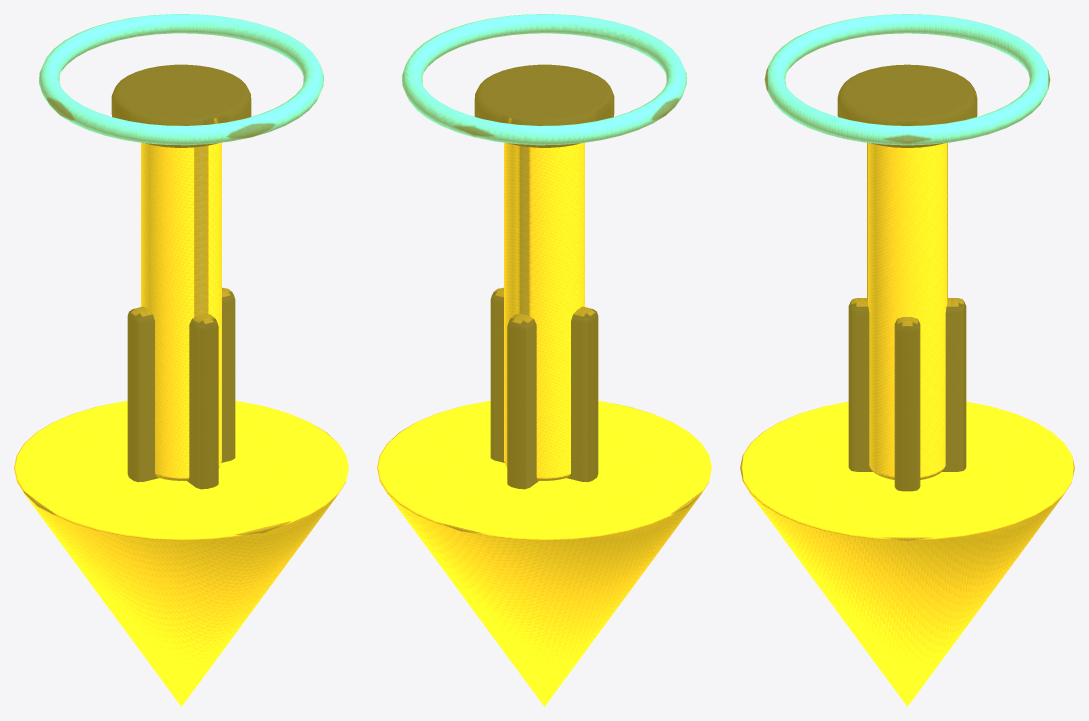
File: task_hint_arrow_uv.glb
3 views of the same model, side by side, from view 1: azimuth 30°, elevation 25°; view 2: azimuth 150°, elevation 25°; view 3: azimuth 270°, elevation 25° (orthographic).
Parts seen in each view (by area): view 1: Arrow_Heavy_Down_Head, Arrow_Yellow_Shaft, Arrow_Cyan_Pulse_Ring, Arrow_Dark_Collar, Arrow_Dark_Fin_1, Arrow_Dark_Fin_0; view 2: Arrow_Heavy_Down_Head, Arrow_Yellow_Shaft, Arrow_Cyan_Pulse_Ring, Arrow_Dark_Collar, Arrow_Dark_Fin_1, Arrow_Dark_Fin_2, Arrow_Dark_Fin_0; view 3: Arrow_Heavy_Down_Head, Arrow_Yellow_Shaft, Arrow_Cyan_Pulse_Ring, Arrow_Dark_Collar, Arrow_Dark_Fin_1, Arrow_Dark_Fin_0, Arrow_Dark_Fin_2.
Part boxes in pixels (x1,y1,x2,y2): Arrow_Heavy_Down_Head: (14,401,348,706); Arrow_Yellow_Shaft: (141,142,221,480); Arrow_Cyan_Pulse_Ring: (39,14,323,145); Arrow_Dark_Collar: (111,64,251,147); Arrow_Dark_Fin_1: (127,287,235,482); Arrow_Dark_Fin_0: (187,313,218,489); Arrow_Heavy_Down_Head: (377,401,711,706); Arrow_Yellow_Shaft: (504,142,584,480); Arrow_Cyan_Pulse_Ring: (402,14,686,145); Arrow_Dark_Collar: (474,64,614,147); Arrow_Dark_Fin_1: (490,287,598,482); Arrow_Dark_Fin_2: (507,314,538,489); Arrow_Dark_Fin_0: (507,313,536,489); Arrow_Heavy_Down_Head: (740,401,1074,706); Arrow_Yellow_Shaft: (867,143,947,479); Arrow_Cyan_Pulse_Ring: (764,14,1050,145); Arrow_Dark_Collar: (837,64,977,147); Arrow_Dark_Fin_1: (894,317,920,491); Arrow_Dark_Fin_0: (849,298,966,471); Arrow_Dark_Fin_2: (848,300,962,471).
Bounding box in the file's own units: 0.4546 × 0.954 × 0.4546.
1 material, 1 textured.
